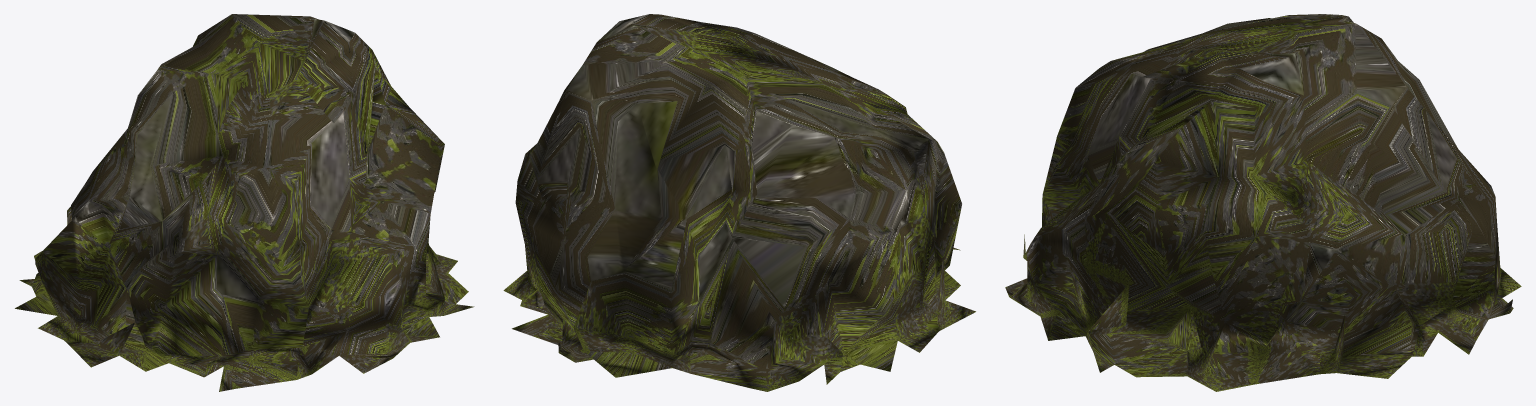
The model's file is rock_big1_far.glb.
3 views of the same model, side by side, from view 1: azimuth 30°, elevation 25°; view 2: azimuth 150°, elevation 25°; view 3: azimuth 270°, elevation 25° (orthographic). The views are drawn at different scales.
Bounding box in the file's own units: 1.79 × 1.08 × 1.82.
Materials: 1 (1 with a texture image).
